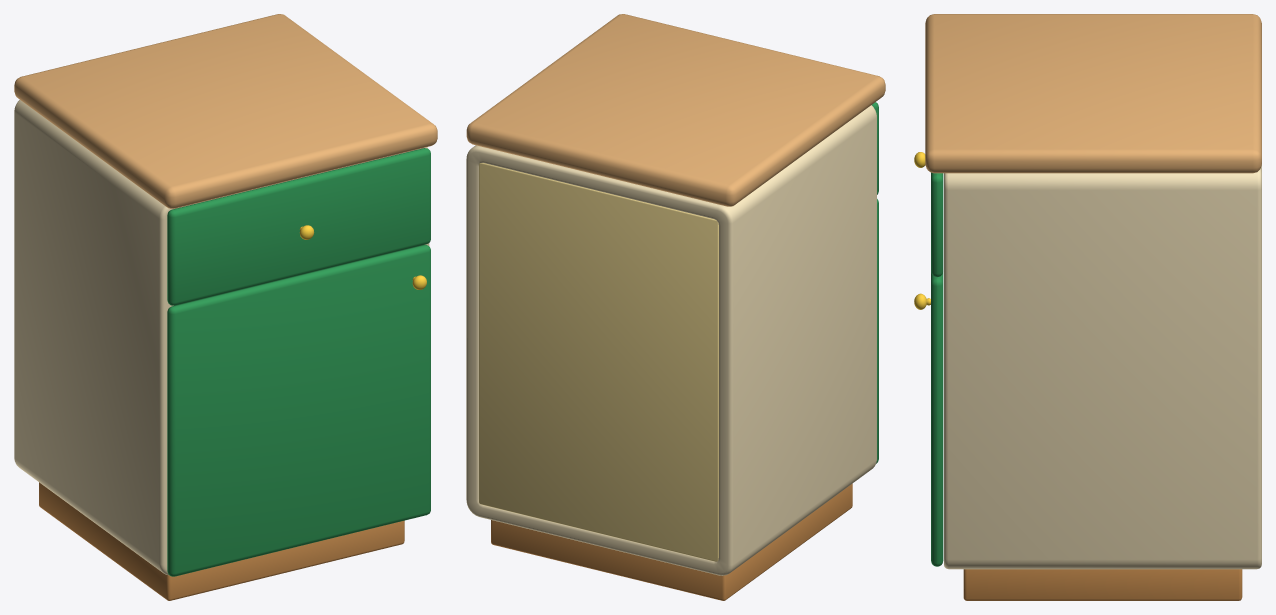
The model's file is armario_cozinha_base_gaveta_porta_creme.glb.
3 views of the same model, side by side, from view 1: azimuth 30°, elevation 25°; view 2: azimuth 150°, elevation 25°; view 3: azimuth 270°, elevation 25° (orthographic). The views are drawn at different scales.
Visible parts, largest first — view 1: armario_cozinha_base_gaveta_porta_creme, porta_1, gaveta_1; view 2: armario_cozinha_base_gaveta_porta_creme; view 3: armario_cozinha_base_gaveta_porta_creme, porta_1, gaveta_1.
Boxes of the visible parts, box(x1,y1,x2,y2) form: armario_cozinha_base_gaveta_porta_creme: box(14, 14, 437, 600); porta_1: box(167, 245, 430, 576); gaveta_1: box(167, 148, 430, 305); armario_cozinha_base_gaveta_porta_creme: box(466, 14, 885, 600); armario_cozinha_base_gaveta_porta_creme: box(925, 14, 1261, 600); porta_1: box(914, 272, 943, 566); gaveta_1: box(914, 152, 943, 277).
Size of the model in its own units: 0.598 by 0.9 by 0.619.
1 material, 1 textured.
